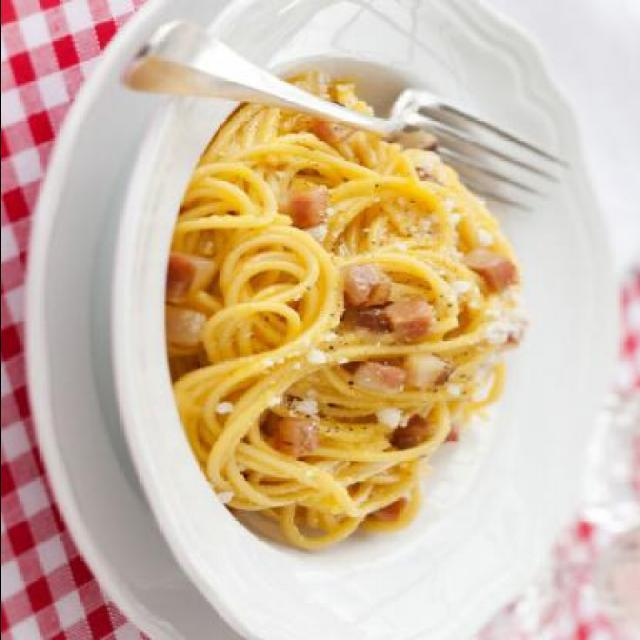Pasta with carbonara sauce: (128, 99, 554, 547)
